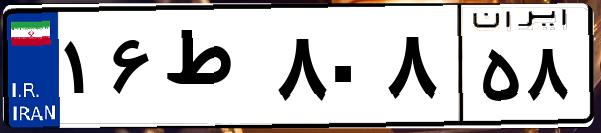0: (330, 28, 385, 110)
1: (57, 26, 110, 100)
5: (475, 38, 525, 113)
6: (110, 28, 158, 98)
8: (270, 28, 330, 110), (385, 28, 445, 110), (525, 38, 570, 115)
ط: (158, 20, 270, 120)
